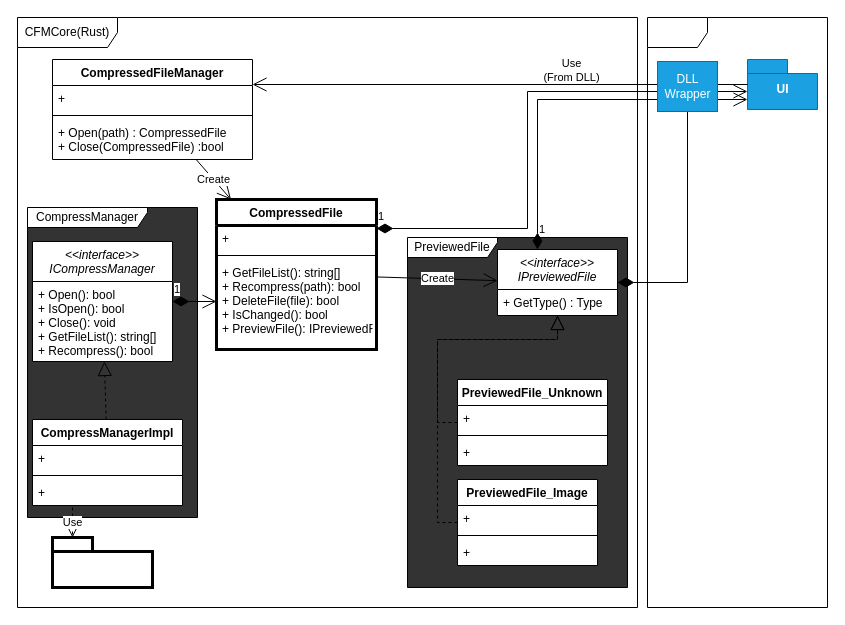
Image size: 845x625. Some labels were removed from this diagram. Here are the shapes that lost their labels. From the top down, the centre of each, then its label:
(737,312): UI(C#)
(102,562): CompressLib
